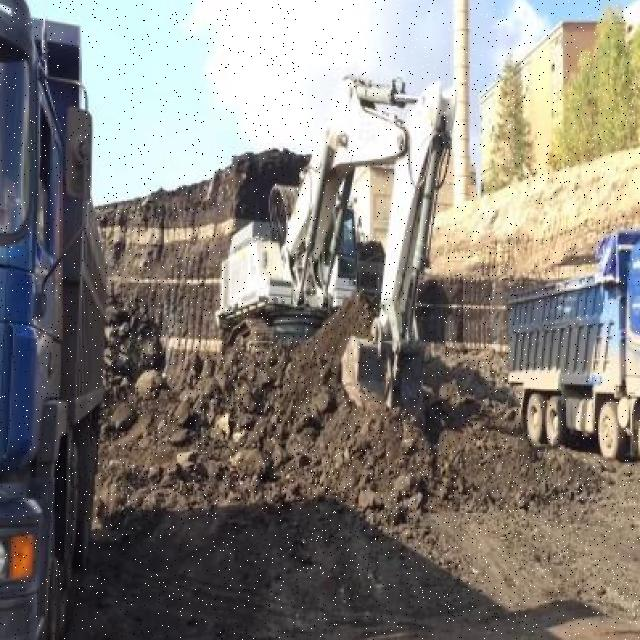Dump Truck: (0, 0, 103, 637), (504, 225, 640, 466)
Excavator: (212, 60, 458, 434)
